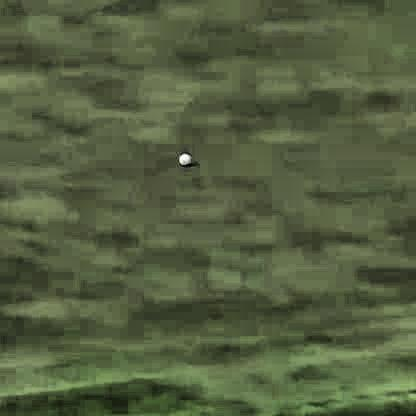golfball: (174, 151, 193, 167)
